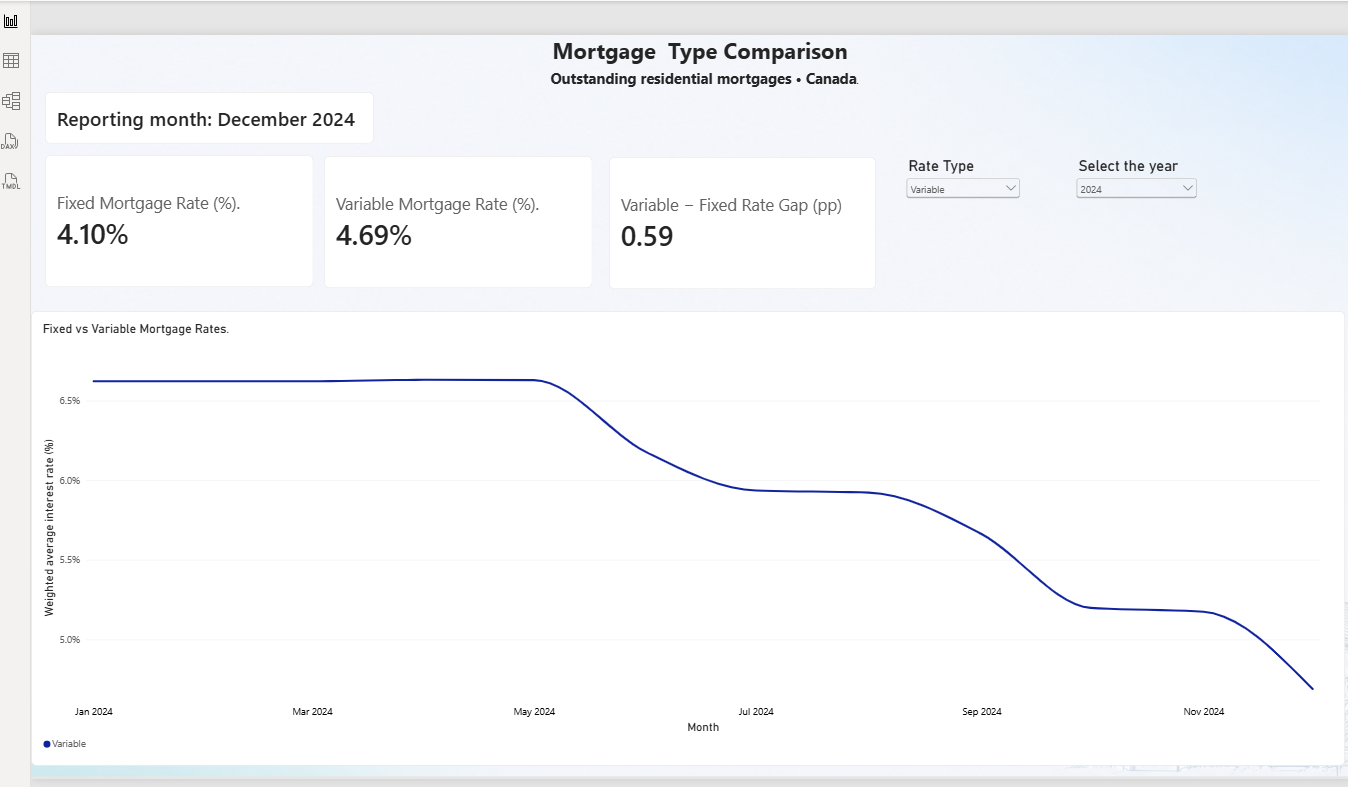

What the dashboard file says about the page in this screenshot:
{"tool":"powerbi","page":{"name":"Mortgage Type Comparison ","canvas":[1920,1080],"ordinal":1},"visuals":[{"type":"lineChart","title":"Fixed vs Variable Mortgage Rates.","fields":{"Category":["MortgageMarket.REF_DATE"],"Series":["MortgageMarket.Rate Type "],"Y":["MortgageMarket.Mortgage Rate by Type"]},"box":[0,400.6,1909.8,660.9],"z":0},{"type":"slicer","title":"Select the year ","fields":{"Values":["Calendar.Year"]},"box":[1515,177.7,185,75.8],"z":1000},{"type":"slicer","title":"Select the Rate type ","fields":{"Values":["MortgageMarket.Rate Type "]},"box":[1267.4,177.7,174.8,75.8],"z":2000},{"type":"cardVisual","fields":{"Data":["MortgageMarket.Variable Minus Fixed Rate Gap"]},"box":[840.1,177.3,389,192.3],"z":2001},{"type":"textbox","box":[0,0,1909.8,48],"z":2002},{"type":"textbox","box":[20.3,48,1899.7,34.9],"z":2003},{"type":"cardVisual","fields":{"Data":["MortgageMarket.Mortgage Rate by Type"]},"box":[20.3,174.4,390.4,192.3],"z":2004},{"type":"cardVisual","fields":{"Data":["MortgageMarket.Mortgage Rate by Type"]},"box":[425.9,175.9,390.4,192.3],"z":2005},{"type":"cardVisual","fields":{"Data":["MortgageMarket.Reporting Month"]},"box":[20.3,82.8,478.2,75.6],"z":2006}]}

Visuals, with their boxes on the page's 1920x1080 design canvas (x1, y1, x2, y2). These are canvas units, not pixel positions in the 1348x787 screenshot, which may show the page scaled, cropped or inside an application window:
"Fixed vs Variable Mortgage Rates." lineChart: x1=0, y1=401, x2=1910, y2=1062
"Select the year " slicer: x1=1515, y1=178, x2=1700, y2=254
"Select the Rate type " slicer: x1=1267, y1=178, x2=1442, y2=254
cardVisual - MortgageMarket.Variable Minus Fixed Rate Gap: x1=840, y1=177, x2=1229, y2=370
textbox: x1=0, y1=0, x2=1910, y2=48
textbox: x1=20, y1=48, x2=1920, y2=83
cardVisual - MortgageMarket.Mortgage Rate by Type: x1=20, y1=174, x2=411, y2=367
cardVisual - MortgageMarket.Mortgage Rate by Type: x1=426, y1=176, x2=816, y2=368
cardVisual - MortgageMarket.Reporting Month: x1=20, y1=83, x2=498, y2=158
